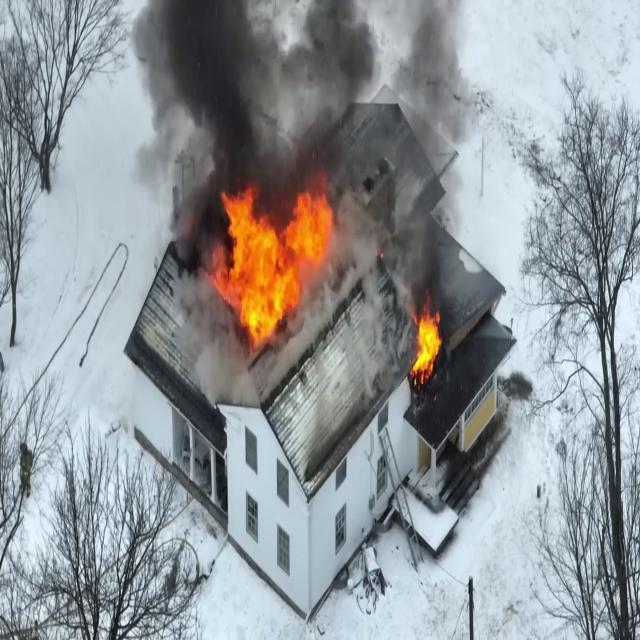Fire: (202, 148, 340, 370), (408, 296, 444, 385)
Smoke: (350, 0, 490, 282), (135, 0, 346, 158)
